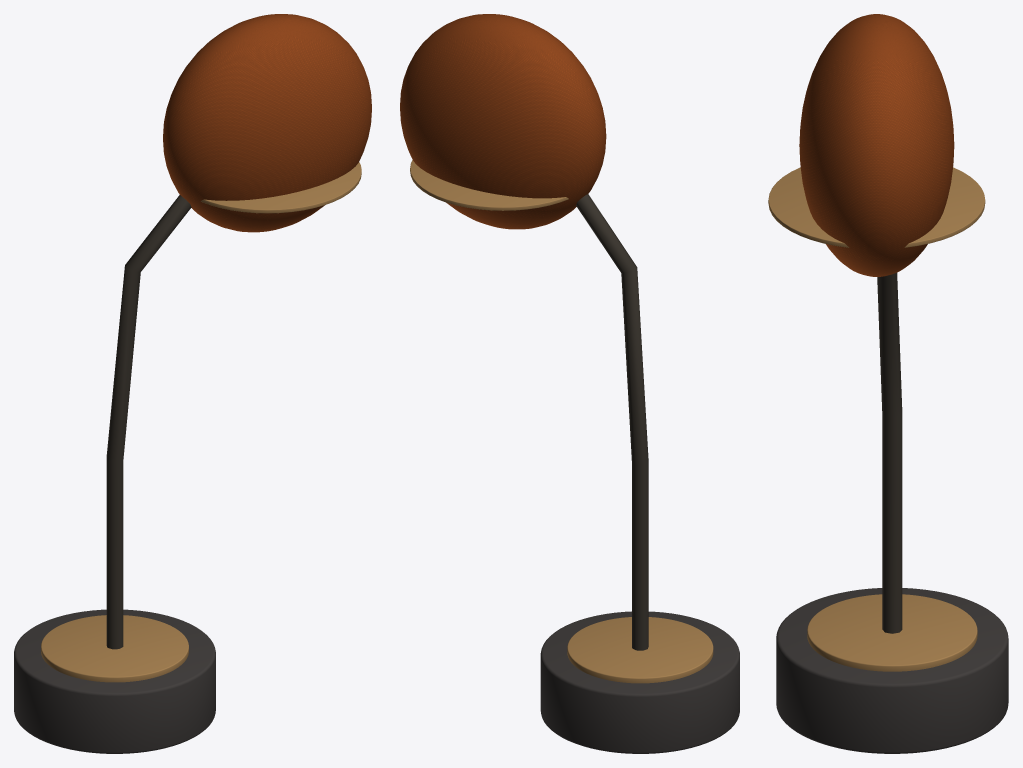
Rendered from dome-floor-lamp.glb.
3 views of the same model, side by side, from view 1: azimuth 30°, elevation 25°; view 2: azimuth 150°, elevation 25°; view 3: azimuth 270°, elevation 25° (orthographic). The views are drawn at different scales.
Visible parts, largest first — view 1: Sculpted dome lamp shade, Heavy stone foot, Curved stem, Brass foot inset, Dome trim; view 2: Sculpted dome lamp shade, Heavy stone foot, Curved stem, Brass foot inset, Dome trim; view 3: Sculpted dome lamp shade, Heavy stone foot, Brass foot inset, Curved stem, Dome trim.
Boxes of the visible parts, x1=… form: Sculpted dome lamp shade: x1=163, y1=14, x2=371, y2=232; Heavy stone foot: x1=14, y1=609, x2=215, y2=753; Curved stem: x1=106, y1=195, x2=191, y2=649; Brass foot inset: x1=41, y1=615, x2=188, y2=682; Dome trim: x1=201, y1=162, x2=361, y2=213; Sculpted dome lamp shade: x1=400, y1=14, x2=606, y2=229; Heavy stone foot: x1=540, y1=611, x2=739, y2=753; Curved stem: x1=576, y1=194, x2=648, y2=650; Brass foot inset: x1=567, y1=617, x2=713, y2=683; Dome trim: x1=410, y1=160, x2=568, y2=210; Sculpted dome lamp shade: x1=799, y1=14, x2=954, y2=276; Heavy stone foot: x1=776, y1=588, x2=1008, y2=753; Brass foot inset: x1=807, y1=594, x2=977, y2=671; Curved stem: x1=877, y1=273, x2=902, y2=633; Dome trim: x1=768, y1=167, x2=985, y2=247.
Bounding box in the file's own units: 1.14 × 2.17 × 0.62.
5 materials, 1 textured.
